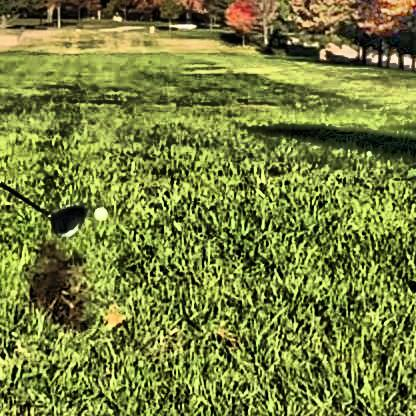golfball: (91, 203, 106, 218)
